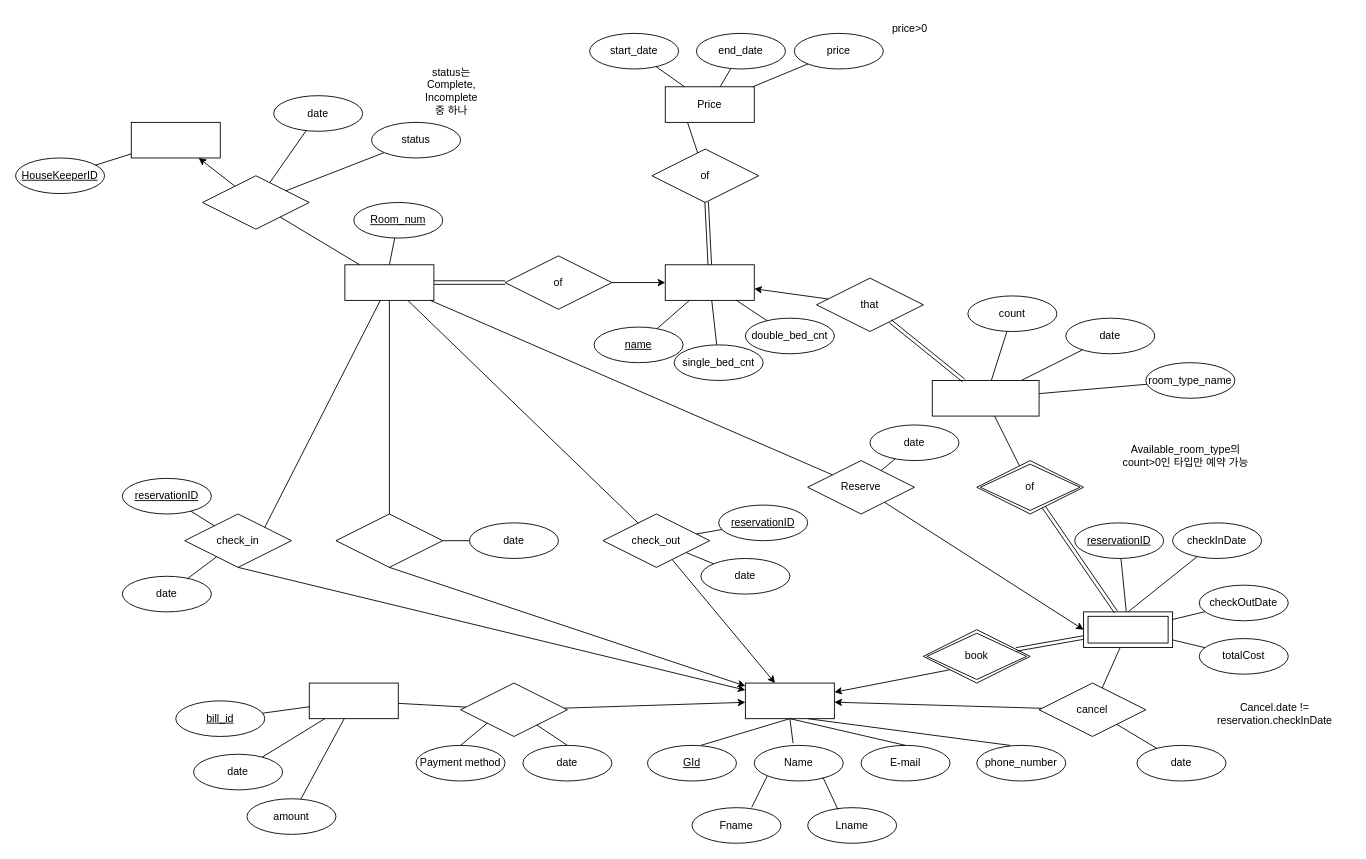
The diagram is 1366 pixels wide and 859 high, and some of its shapes have lost their labels. Each missing label, with the centre of its shape:
Available_room_type: the point at 985,398
bill: the point at 353,700
Guest: the point at 789,700
housekeep: the point at 255,202
HouseKeeper: the point at 175,139
Payment: the point at 513,709
reservation: the point at 1128,629
Rooms: the point at 389,282
Rooms_type: the point at 709,282
service: the point at 389,540
